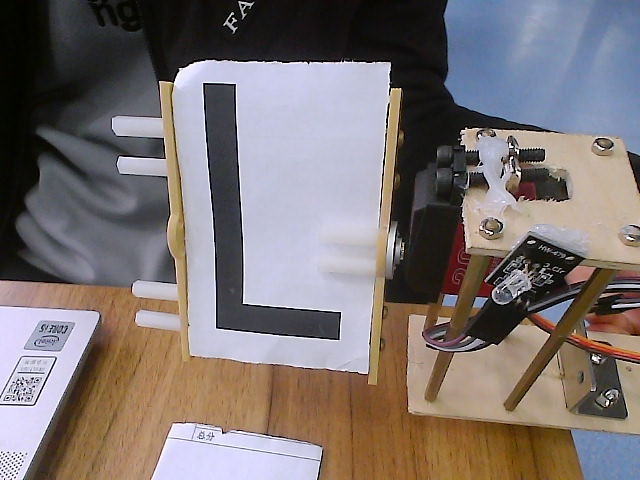L: (108, 31, 453, 389)
